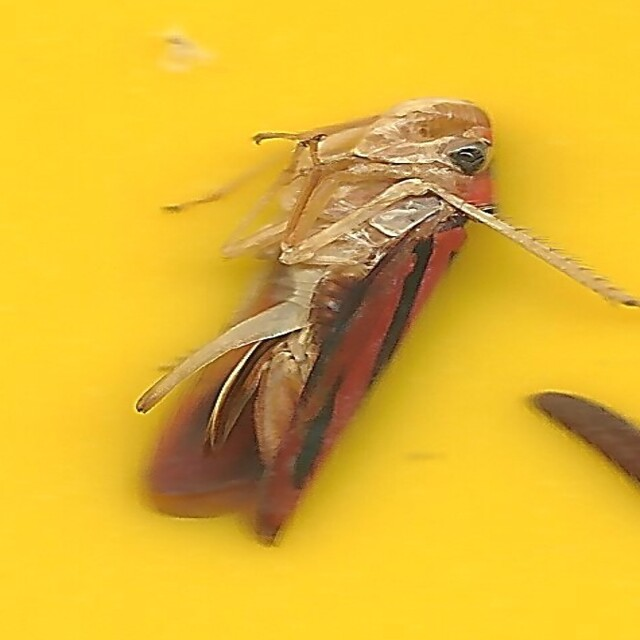Hemiptera: (135, 94, 505, 546)
